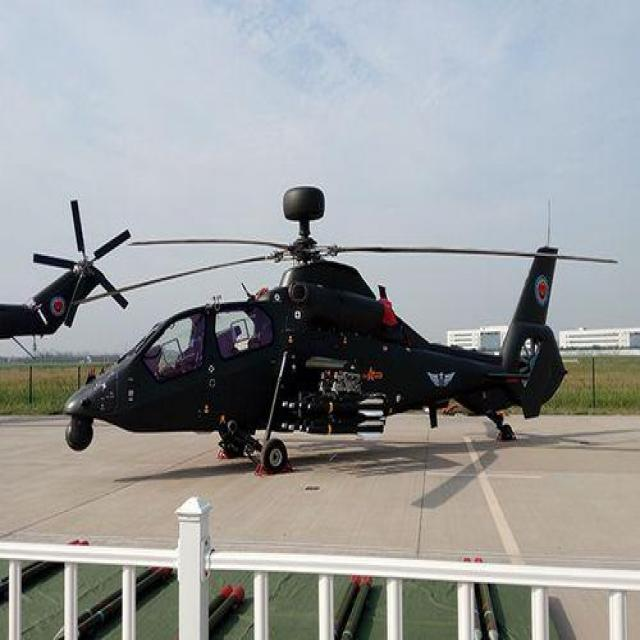MIL_HELO: (45, 190, 615, 481)
